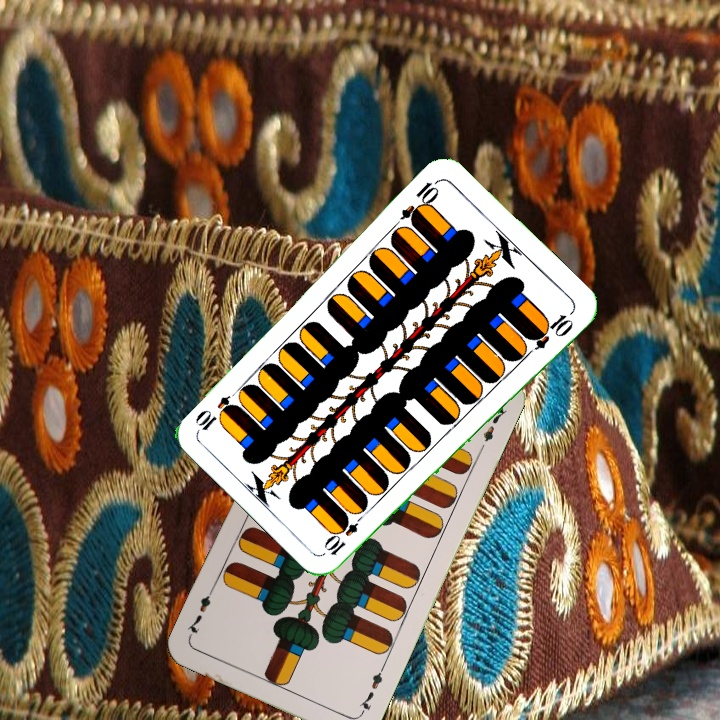E10: (321, 507, 368, 558), (397, 175, 443, 227)
E7: (356, 663, 387, 719)
